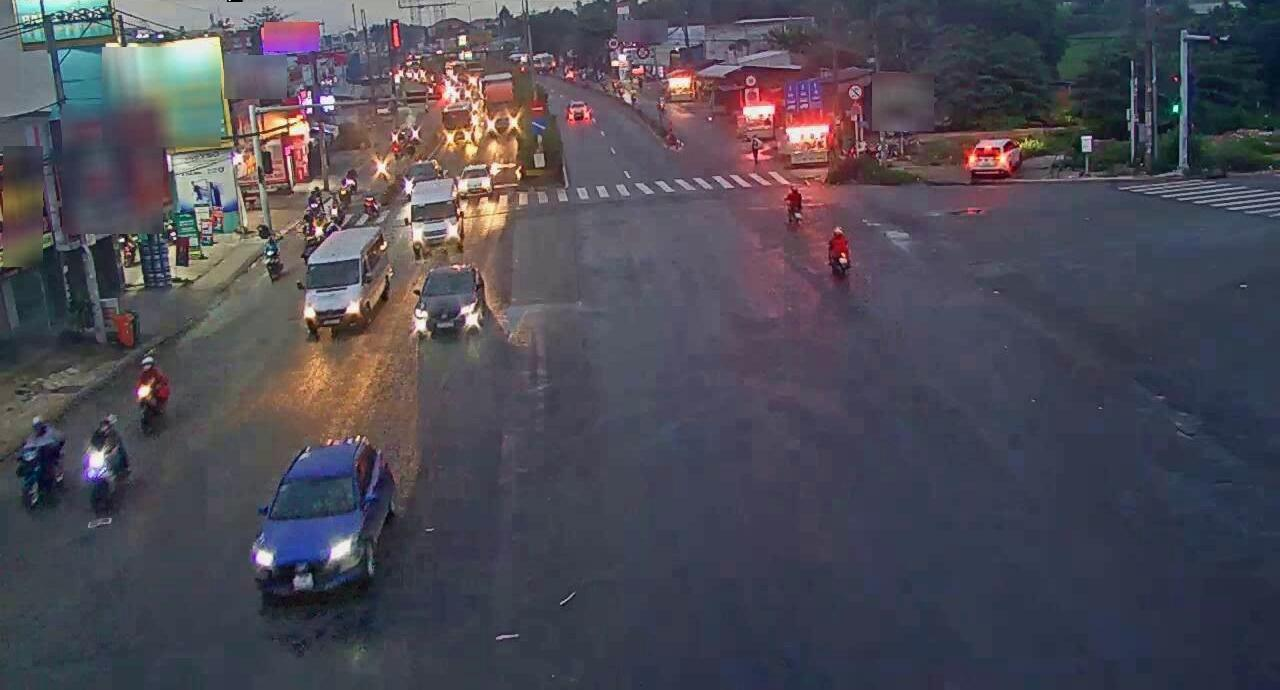xe hoi: (243, 438, 392, 596), (415, 264, 484, 342)
xe may: (80, 409, 130, 513), (18, 420, 67, 513), (128, 353, 172, 431)
xe van: (301, 227, 391, 332)
